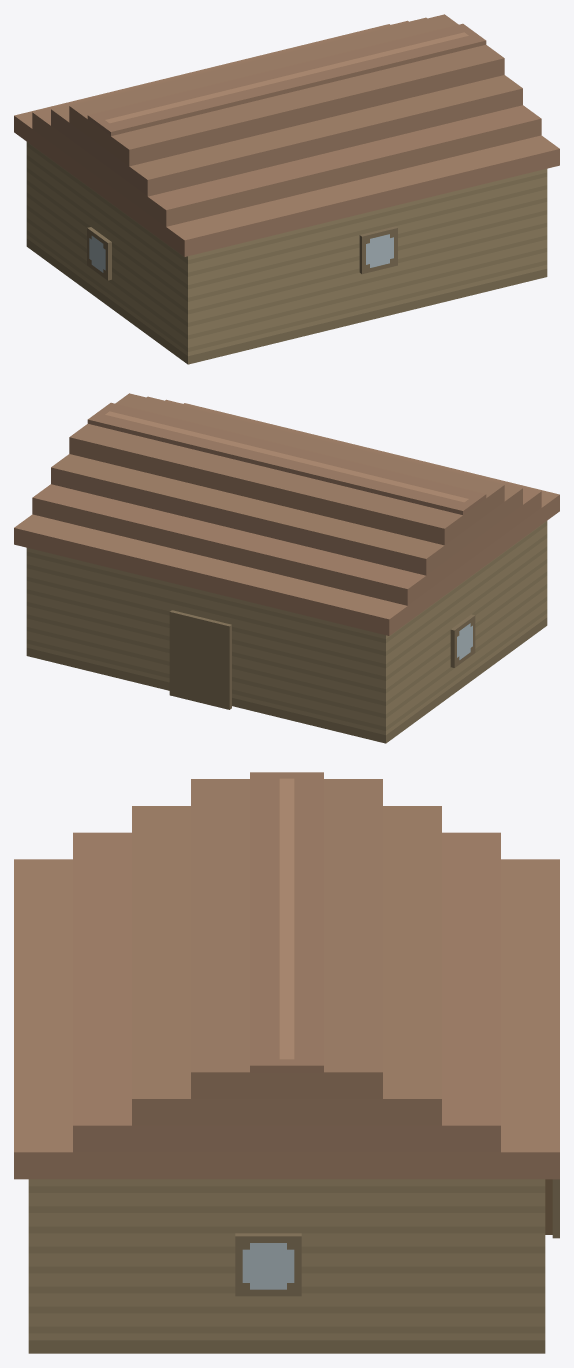
Rendered from hilanderia_04.glb.
The picture shows the model from 3 angles, top to bottom: view 1: azimuth 30°, elevation 25°; view 2: azimuth 150°, elevation 25°; view 3: azimuth 270°, elevation 25°; orthographic projection. The views are drawn at different scales.
Parts seen in each view (by area): view 1: hilanderia_04; view 2: hilanderia_04; view 3: hilanderia_04.
Boxes of the visible parts, x1=… form: hilanderia_04: x1=14, y1=14, x2=559, y2=364; hilanderia_04: x1=14, y1=393, x2=559, y2=743; hilanderia_04: x1=14, y1=772, x2=559, y2=1353.
Bounding box in the file's own units: 9.4 × 4.4 × 7.4.
